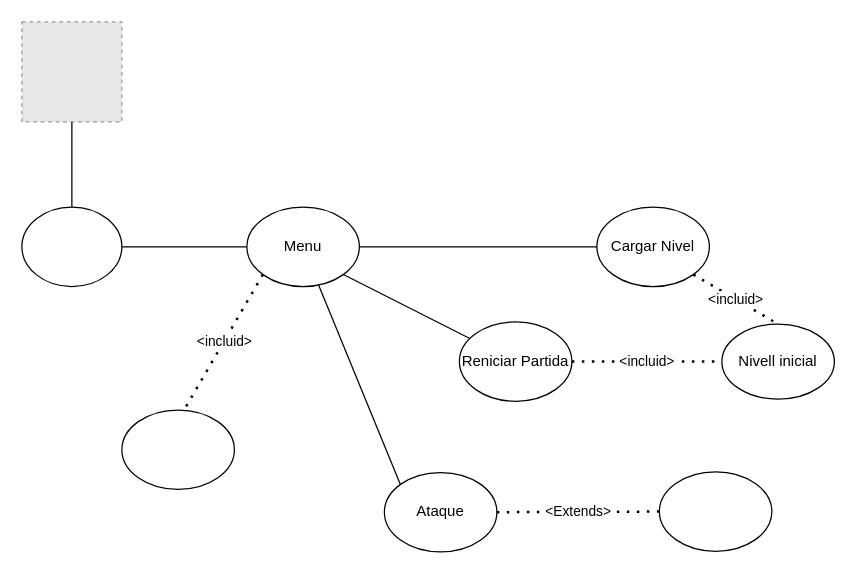
Image size: 856x574. Some labels were removed from this diagram. Grey dashed boxes stand in for pictures. The box of each missing label's shape, as (x1, y1, x2, y2) in pixels:
Batalla: (658, 471, 772, 551)
Elegir Opcion: (121, 409, 234, 489)
Login: (21, 206, 122, 286)
